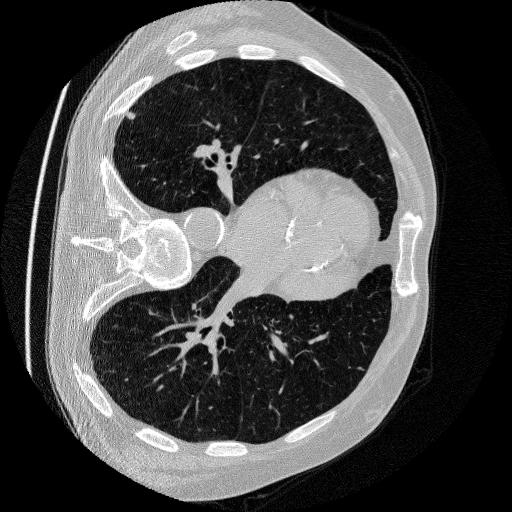nodule: (125, 111, 139, 125)
